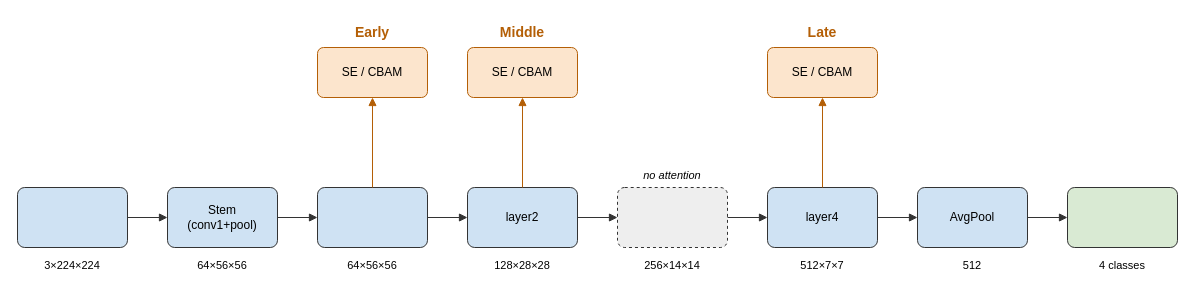
This 1195x294 diagram has some shape labels left out. The shapes that lost their labels are listed below. From the top down, each one's box as (x1, y1, x2, y2) in pixels, then its label:
(16, 186, 128, 248): Input
(316, 186, 428, 248): layer1
(616, 186, 728, 248): layer3
(1066, 186, 1178, 248): FC
